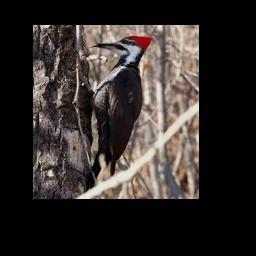Woodpecker: (88, 36, 152, 191)
